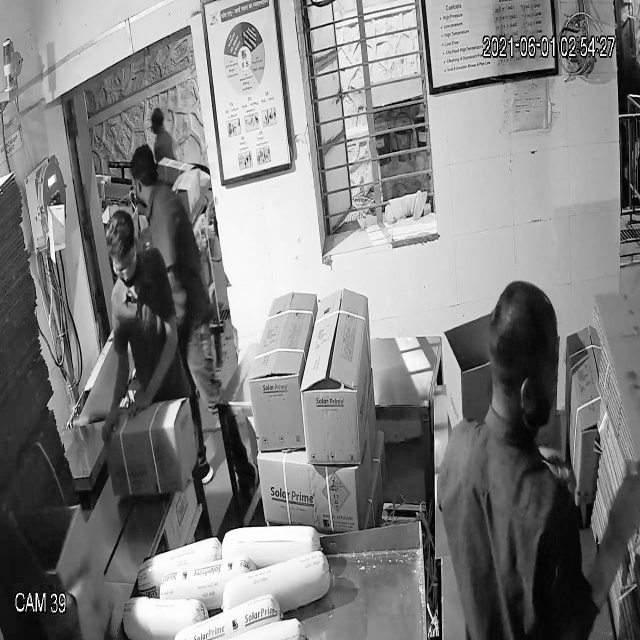Gafas: (108, 237, 140, 285)
